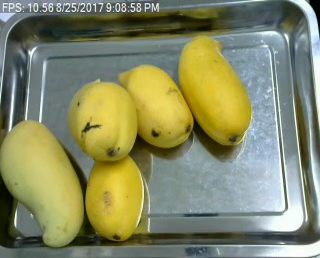Mango: (0, 119, 86, 250), (173, 36, 258, 146), (121, 61, 192, 149), (78, 153, 147, 241), (68, 79, 141, 160)
